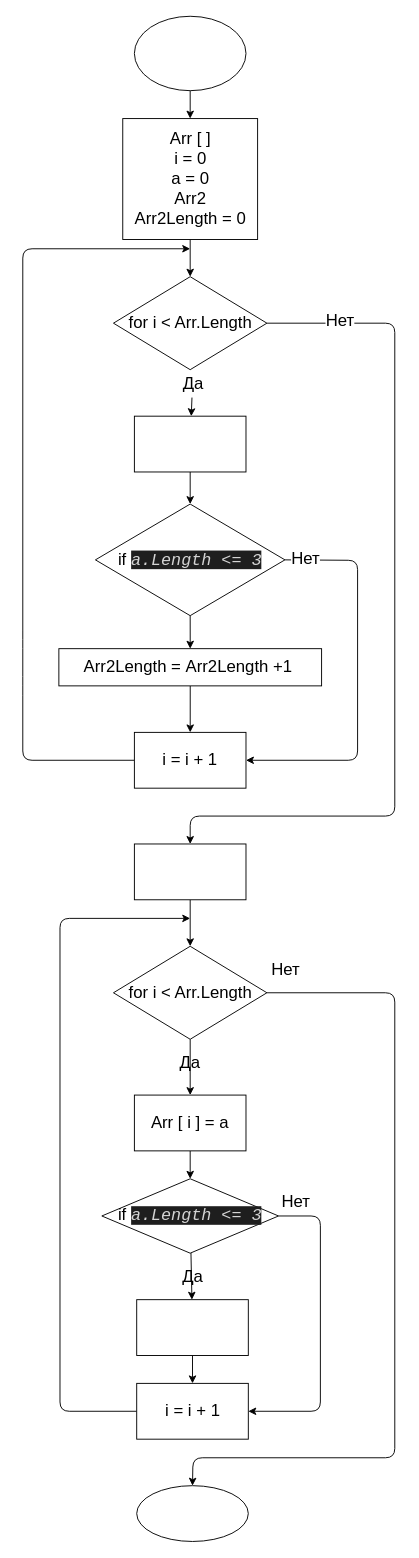
Some shapes in this 419 by 1558 pixel diagram are drawn without their labels. The shapes that lost their labels are listed below. From the top down, each one's centre as x and y in pixels, then its label:
the point at 189,53: Начало
the point at 189,443: Arr [i] = a
the point at 189,871: i = 0
the point at 192,1327: Arr2[ i ] = a
the point at 192,1513: Финал
